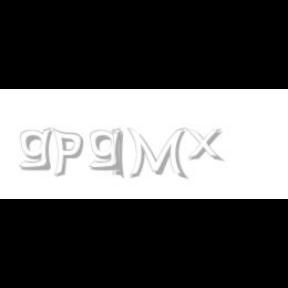I: (112, 128, 125, 180)
M: (126, 128, 186, 180)
P: (52, 128, 84, 178)
g: (88, 128, 126, 171), (20, 128, 56, 171)
x: (185, 128, 227, 162)
